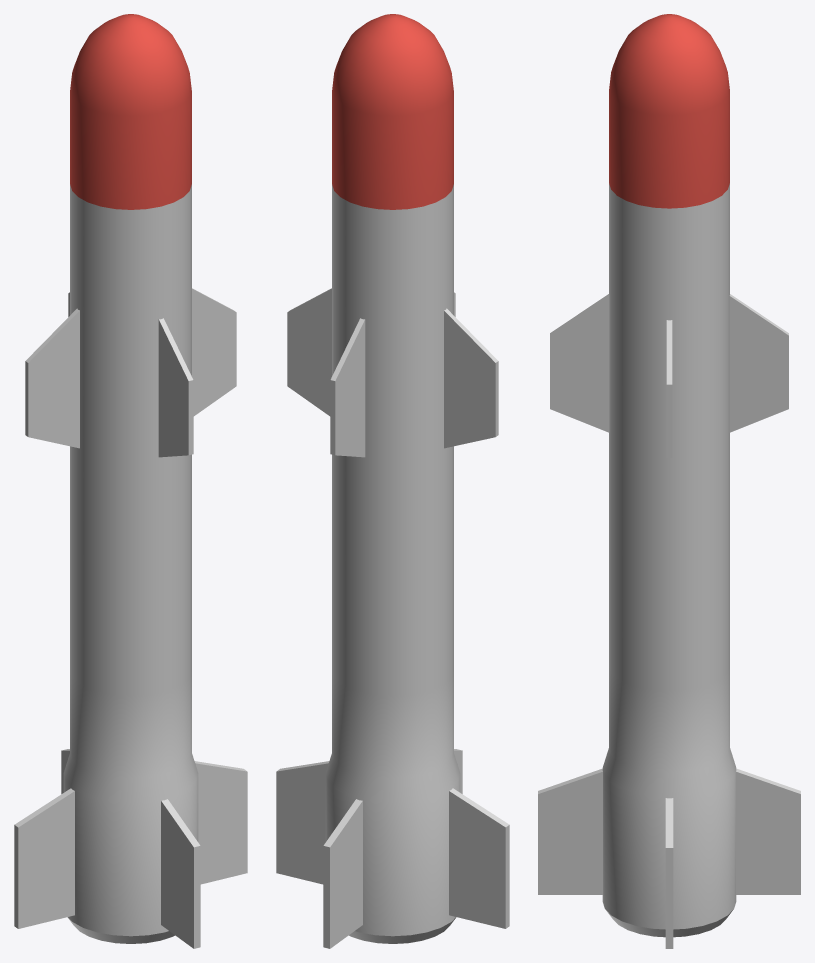
File: Rudal_Bang_Amba.fbx
The picture shows the model from 3 angles, left to right: view 1: azimuth 30°, elevation 25°; view 2: azimuth 150°, elevation 25°; view 3: azimuth 270°, elevation 25°; orthographic projection.
Visible parts, largest first — view 1: Sphere; view 2: Sphere; view 3: Sphere.
Part boxes in pixels (x1,y1,x2,y2): Sphere: (14,14,247,948); Sphere: (276,14,509,948); Sphere: (538,14,800,948).
Bounding box in the file's own units: 435 × 1635 × 435.
